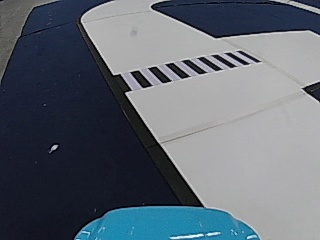CrossWalk: (118, 49, 255, 87)
